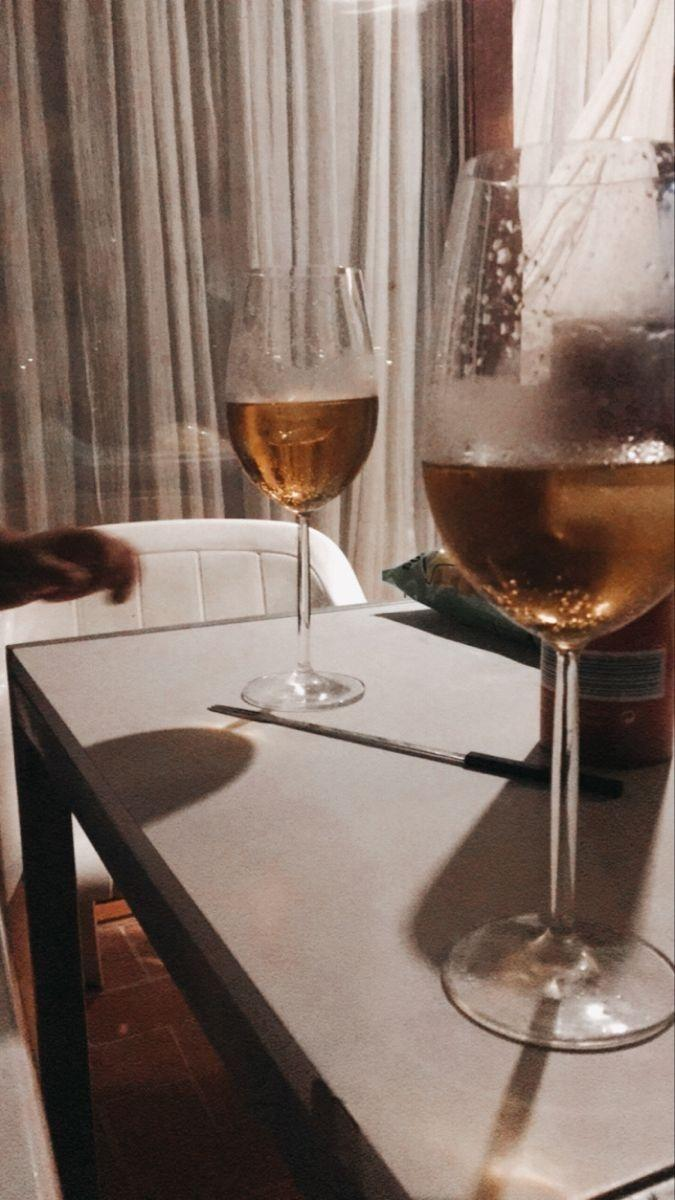glass-wine: (409, 130, 675, 1052), (219, 257, 386, 721)
